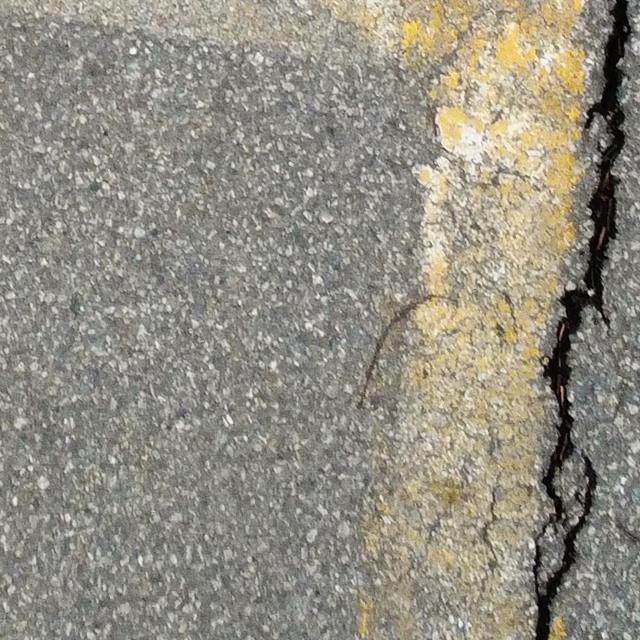LongitudinalCrack: (531, 1, 633, 639)
